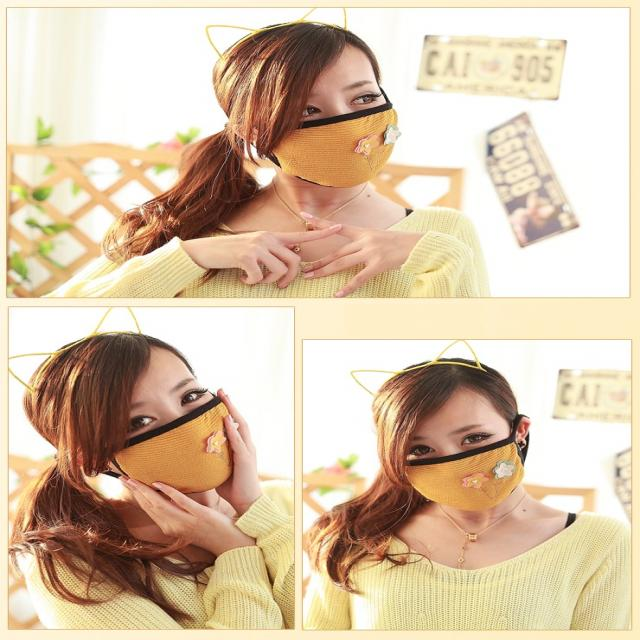mask: (100, 349, 232, 492), (271, 46, 386, 187), (407, 397, 518, 512)
